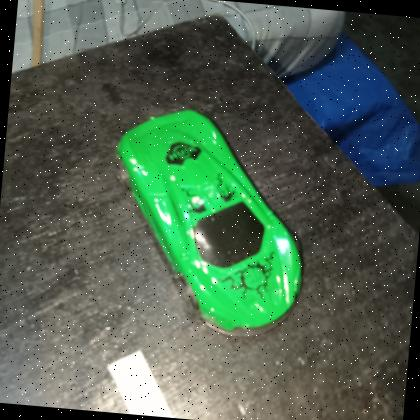Car: (99, 99, 318, 345)
